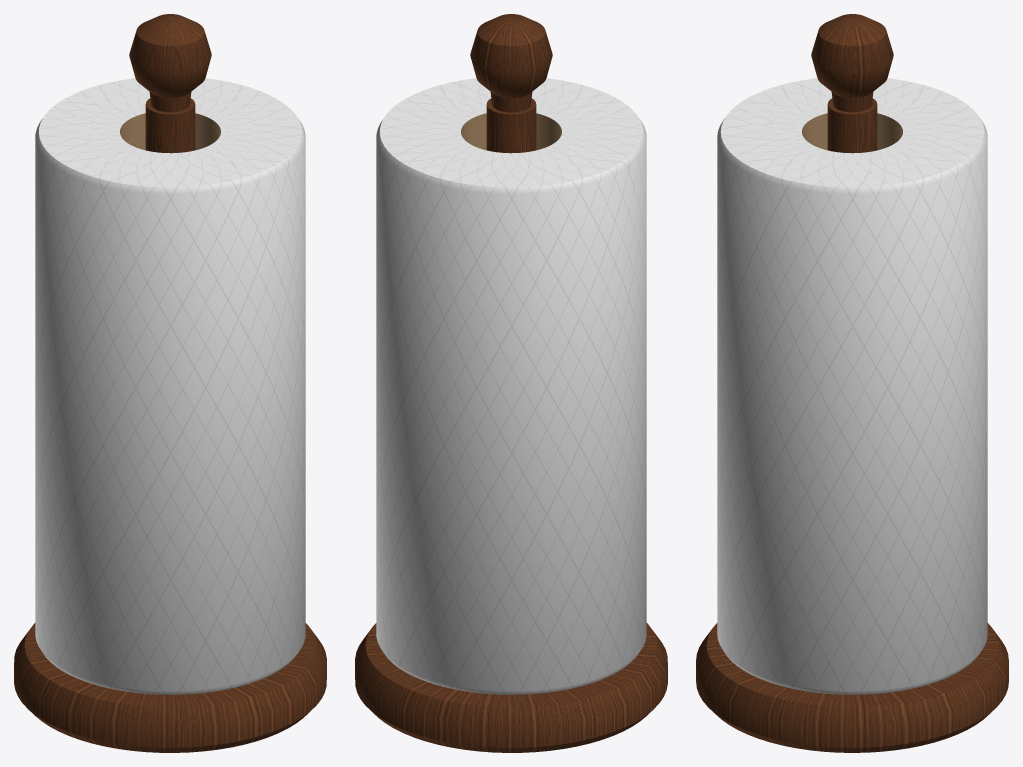
The model's file is tissue_holder.glb.
The picture shows the model from 3 angles, left to right: view 1: azimuth 30°, elevation 25°; view 2: azimuth 150°, elevation 25°; view 3: azimuth 270°, elevation 25°; orthographic projection.
Parts seen in each view (by area): view 1: Vintageware Wooden Kitchen Tissue Roll Holder; view 2: Vintageware Wooden Kitchen Tissue Roll Holder; view 3: Vintageware Wooden Kitchen Tissue Roll Holder.
Boxes of the visible parts, x1=… form: Vintageware Wooden Kitchen Tissue Roll Holder: x1=14, y1=14, x2=326, y2=752; Vintageware Wooden Kitchen Tissue Roll Holder: x1=355, y1=14, x2=667, y2=752; Vintageware Wooden Kitchen Tissue Roll Holder: x1=696, y1=14, x2=1008, y2=752.
Bounding box in the file's own units: 0.133 × 0.315 × 0.133.
3 materials, 2 textured.
